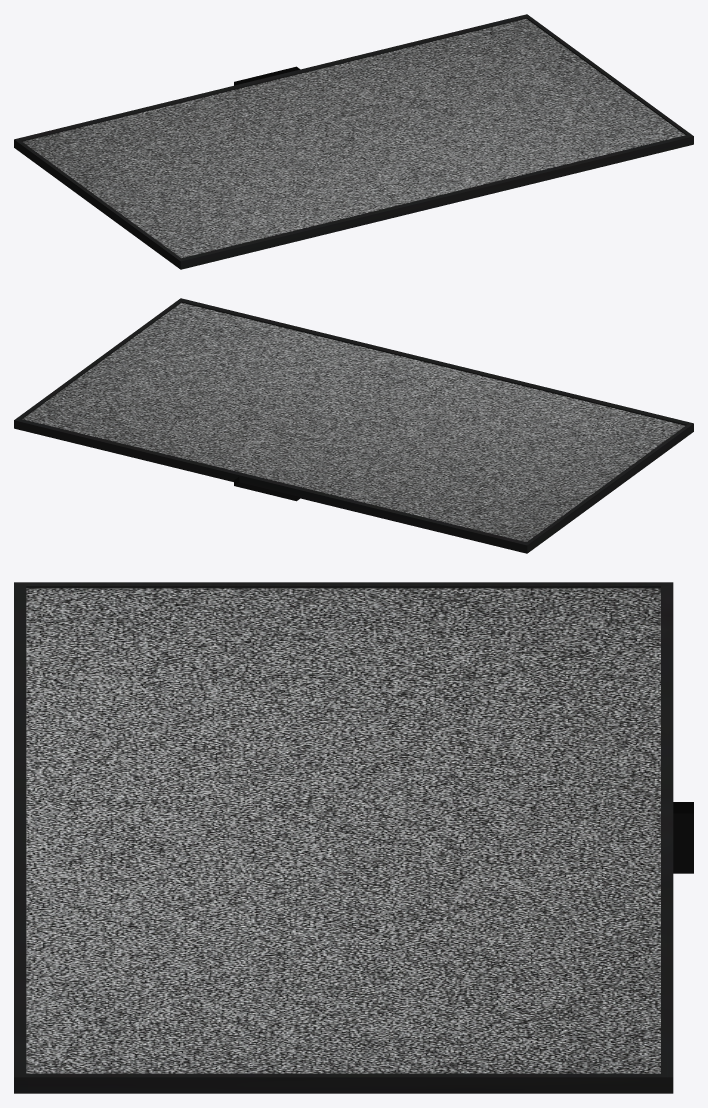
3 renders of one model, top to bottom at view 1: azimuth 30°, elevation 25°; view 2: azimuth 150°, elevation 25°; view 3: azimuth 270°, elevation 25°, orthographic. The views are drawn at different scales.
Parts seen in each view (by area): view 1: Cube; view 2: Cube; view 3: Cube.
Boxes of the visible parts, x1,y1,x2,y2 form: Cube: (14, 14, 693, 269); Cube: (14, 298, 693, 553); Cube: (14, 582, 693, 1093).
Bounding box in the file's own units: 4160 × 64.35 × 2415.
Materials: 2 (1 with a texture image).
